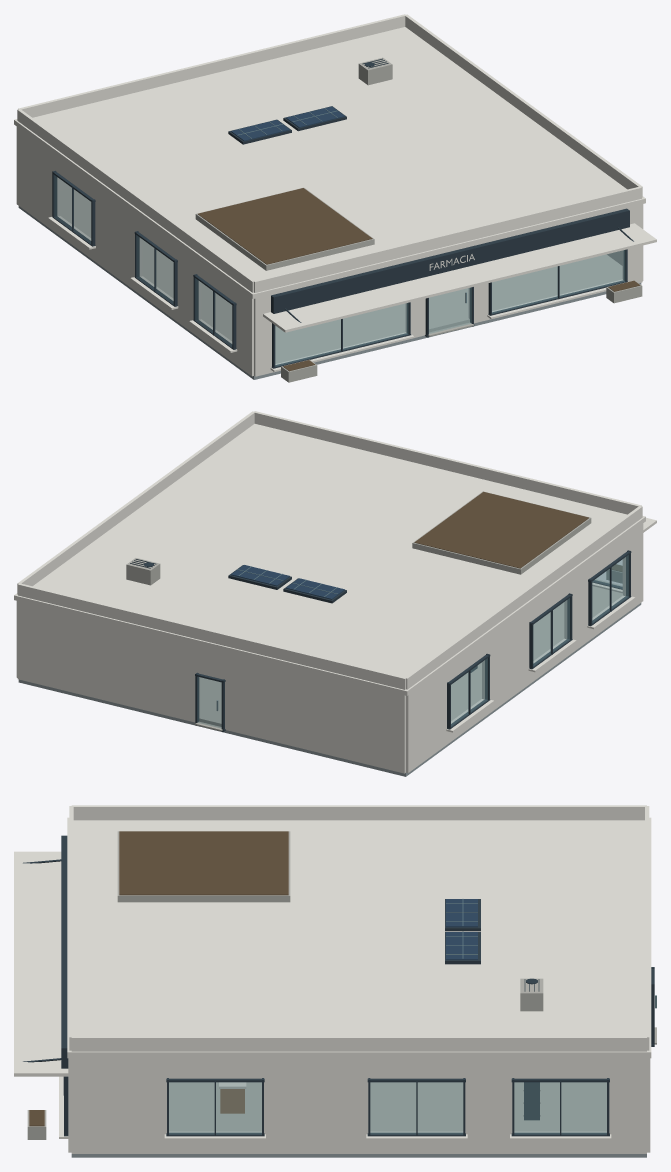
File: Shop_2.fbx
3 views of the same model, one above another, from view 1: azimuth 30°, elevation 25°; view 2: azimuth 150°, elevation 25°; view 3: azimuth 270°, elevation 25° (orthographic). The views are drawn at different scales.
Visible parts, largest first — view 1: Shop_2.082; view 2: Shop_2.082; view 3: Shop_2.082.
Part boxes in pixels (<box>): Shop_2.082: <box>14,14,656,382</box>; Shop_2.082: <box>14,411,656,776</box>; Shop_2.082: <box>14,805,656,1157</box>.
Bounding box in the file's own units: 19.87 × 4.87 × 22.35.
